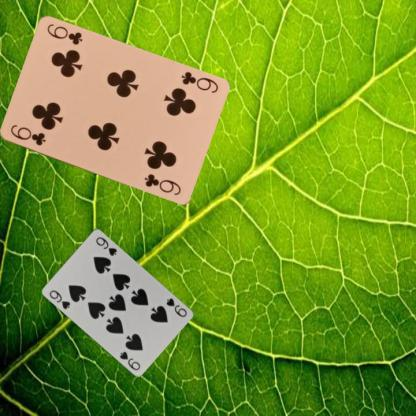6c: (178, 69, 219, 95), (7, 122, 47, 147)
9s: (46, 287, 72, 310), (164, 296, 188, 318)
